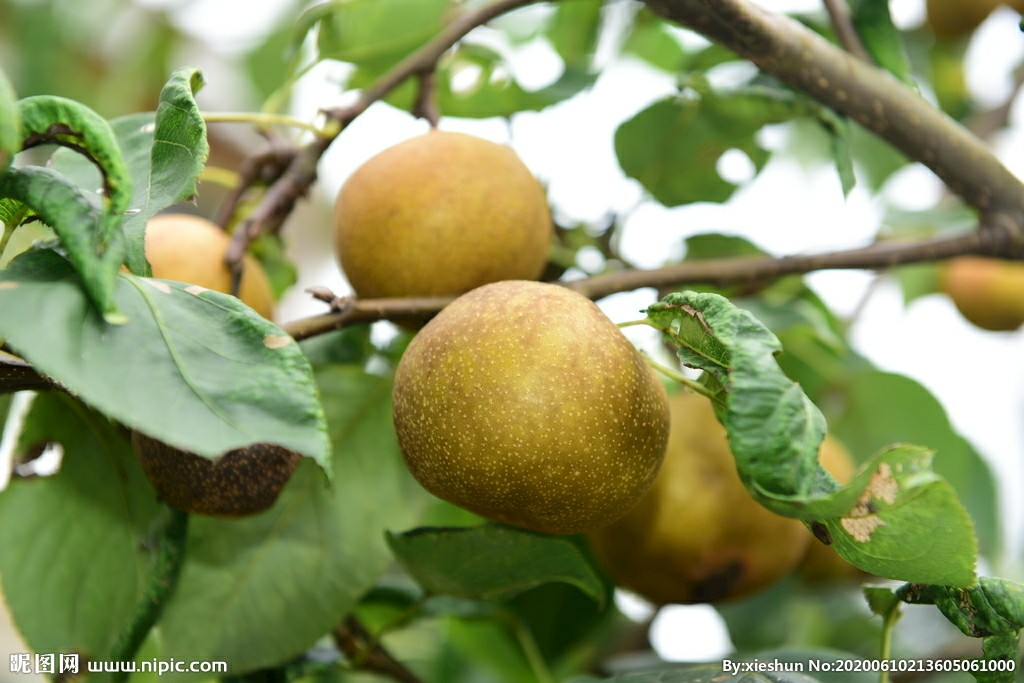pear: (395, 280, 668, 528), (587, 393, 821, 603), (332, 131, 553, 326), (106, 214, 279, 345)
